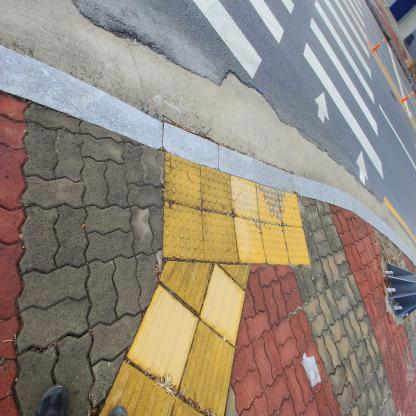podotacti: (91, 256, 266, 416), (154, 147, 315, 271)
